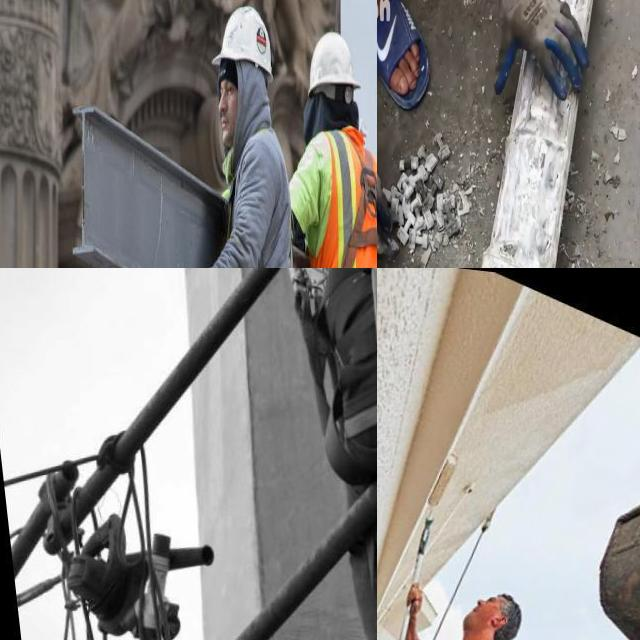Harness: (341, 127, 377, 268)
hand_glove: (489, 0, 588, 99), (377, 112, 402, 268)
